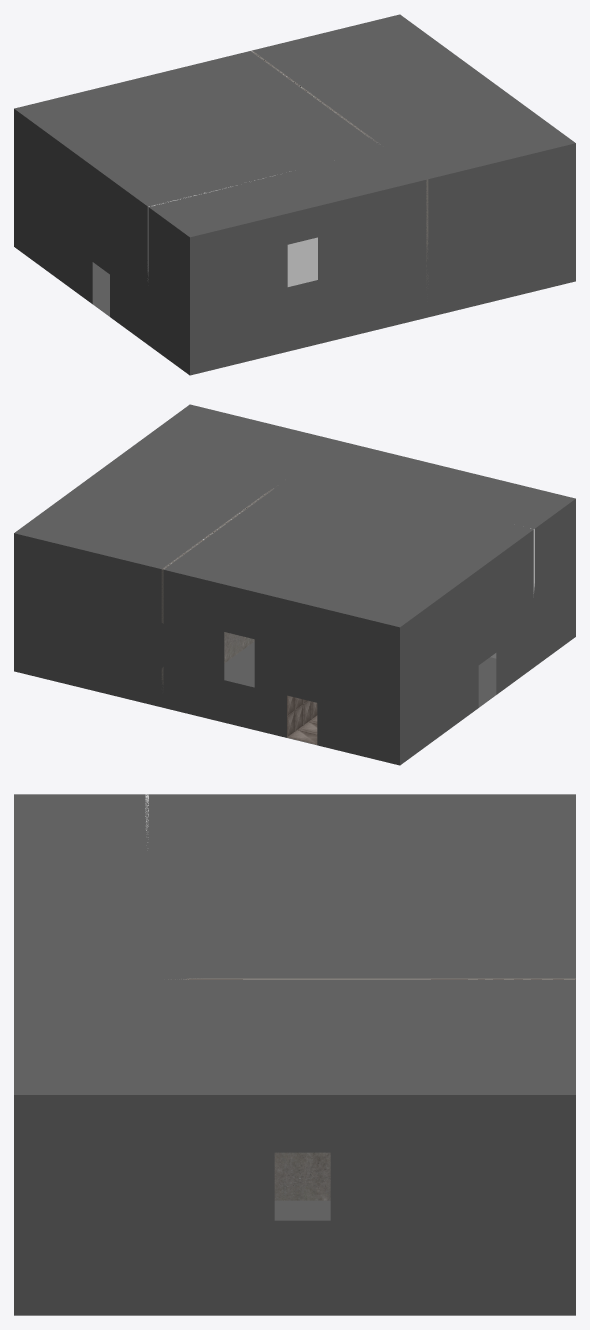
Rendered from FilterRoom.FBX.
The picture shows the model from 3 angles, top to bottom: view 1: azimuth 30°, elevation 25°; view 2: azimuth 150°, elevation 25°; view 3: azimuth 270°, elevation 25°; orthographic projection. The views are drawn at different scales.
Visible parts, largest first — view 1: pPlane6, pPlane3, pPlane4, pCube2, pPlane5, pCube4; view 2: pPlane6, pPlane1, pPlane4, pPlane5, pCube4, pCube3, AirDuctGround; view 3: pPlane6, pPlane2, pCube4, pPlane5.
Boxes of the visible parts, x1,y1,x2,y2 form: pPlane6: [14, 14, 575, 237]; pPlane3: [190, 143, 575, 375]; pPlane4: [14, 109, 189, 375]; pCube2: [147, 171, 317, 286]; pPlane5: [92, 262, 109, 316]; pCube4: [251, 50, 428, 287]; pPlane6: [14, 404, 575, 627]; pPlane1: [14, 533, 399, 765]; pPlane4: [400, 499, 575, 765]; pPlane5: [224, 641, 496, 745]; pCube4: [161, 488, 273, 689]; pCube3: [287, 695, 317, 737]; AirDuctGround: [287, 716, 317, 744]; pPlane6: [14, 794, 575, 1094]; pPlane2: [14, 1095, 575, 1315]; pCube4: [168, 978, 575, 1200]; pPlane5: [274, 1200, 330, 1220].
Bounding box in the file's own units: 380 × 300 × 130.
